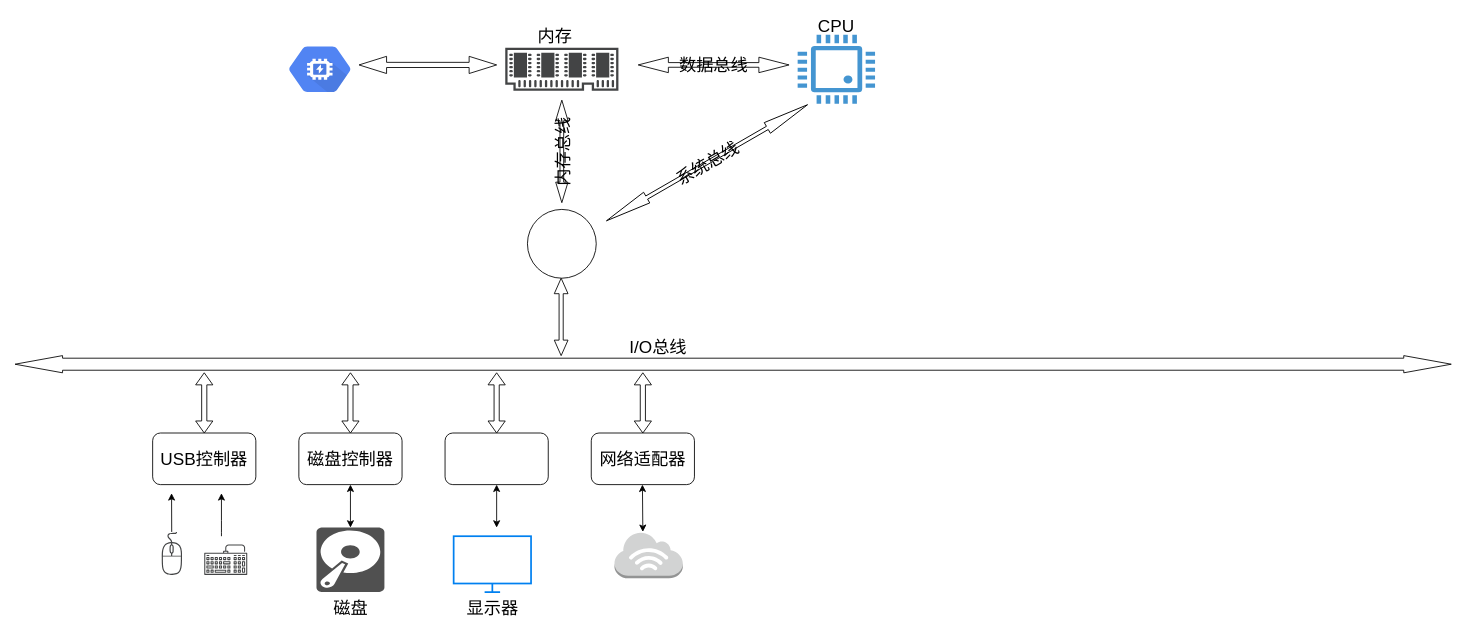
This 1466x633 diagram has some shape labels left out. Here are the shapes that lost their labels. From the top down, the centre of each, then its label:
At point 319,68: "ＧＰＵ".
At point 561,243: "Ｉ/O桥".
At point 496,458: "图形适配器".
At point 648,554: "网络".
